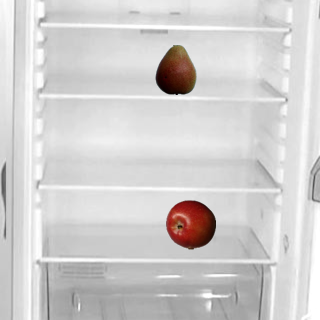Apple Braeburn: (165, 199, 215, 249)
Pear Forelle: (150, 44, 200, 94)
